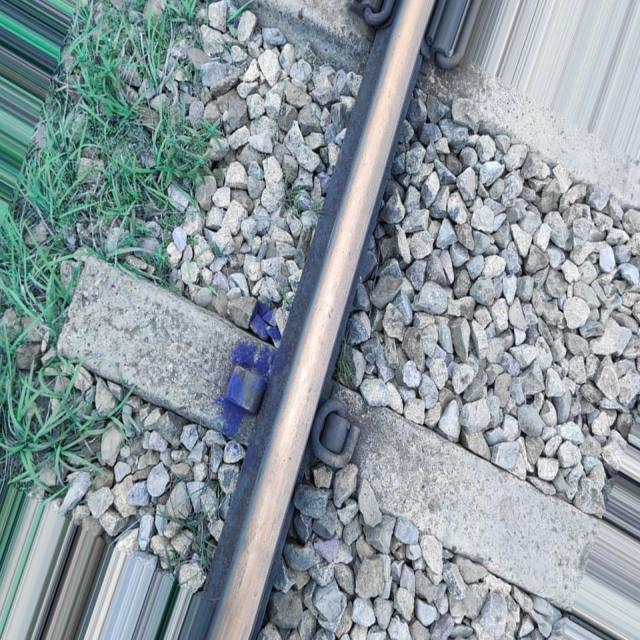Good Fasteners: (308, 398, 372, 476), (421, 0, 481, 68)
Missing Fastener: (208, 336, 284, 423)
